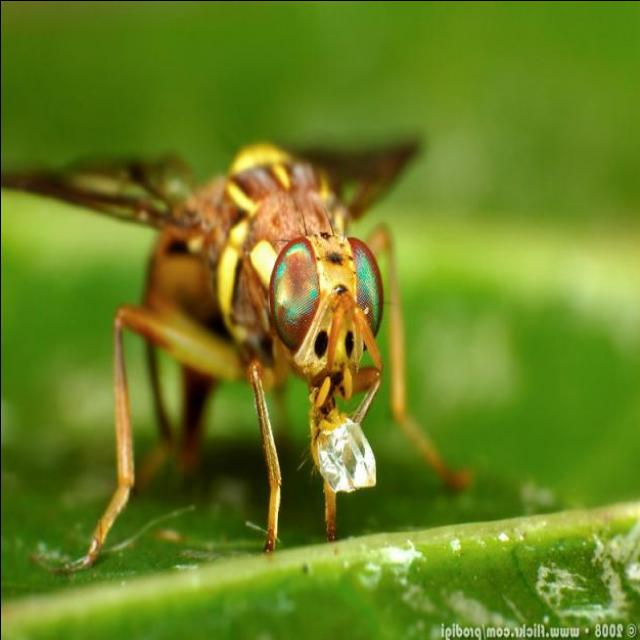Fruit fly: (0, 127, 482, 577)
